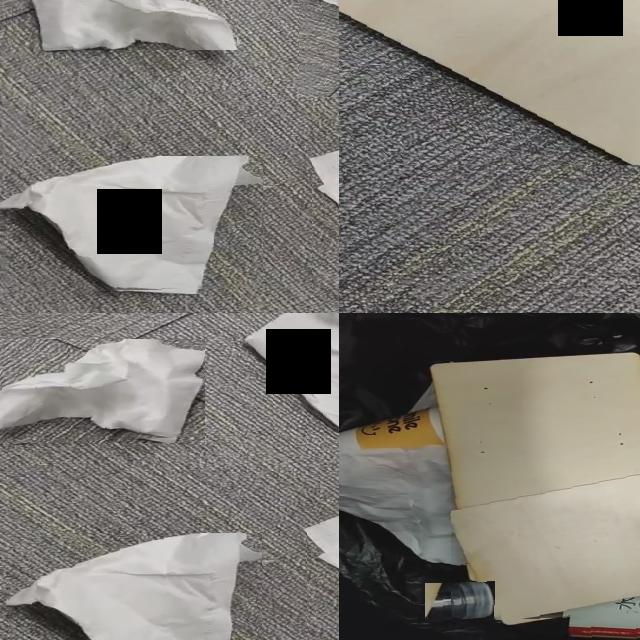bottle: (427, 583, 501, 623), (568, 603, 640, 640)
carton: (339, 0, 640, 165), (432, 354, 640, 508), (451, 477, 640, 621)
dixie_cup: (339, 410, 443, 450)
paper: (2, 156, 263, 290), (8, 533, 262, 640), (0, 339, 205, 439), (339, 446, 468, 566), (31, 0, 237, 50)
